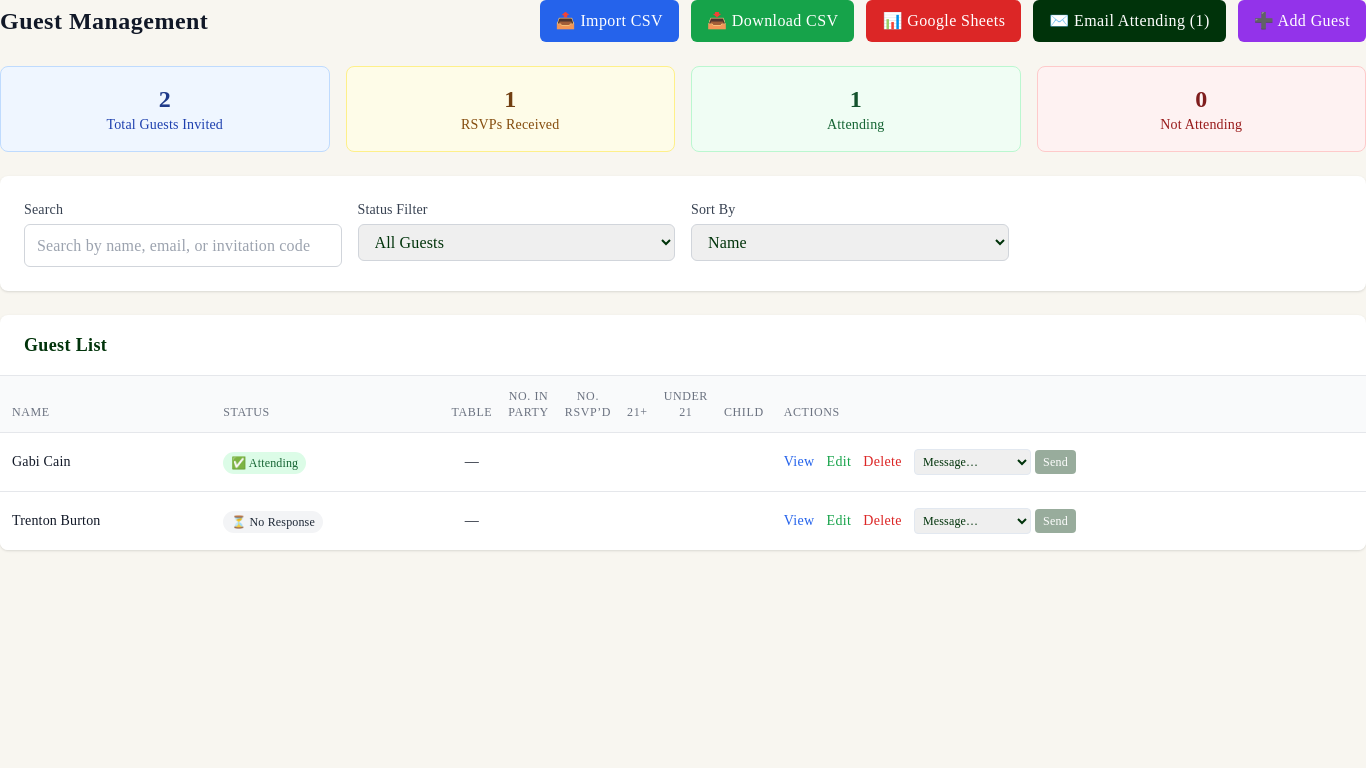
Test: the popup › opens on Download CSV without downloading anything yet
This screenshot has width=1366, height=768.
Expected: the text "Gabi Cain" is shown, x1=12 y1=454 x2=71 y2=469
Click the button "📥 Download CSV" at [773, 21], box x1=691 y1=0 x2=854 y2=42
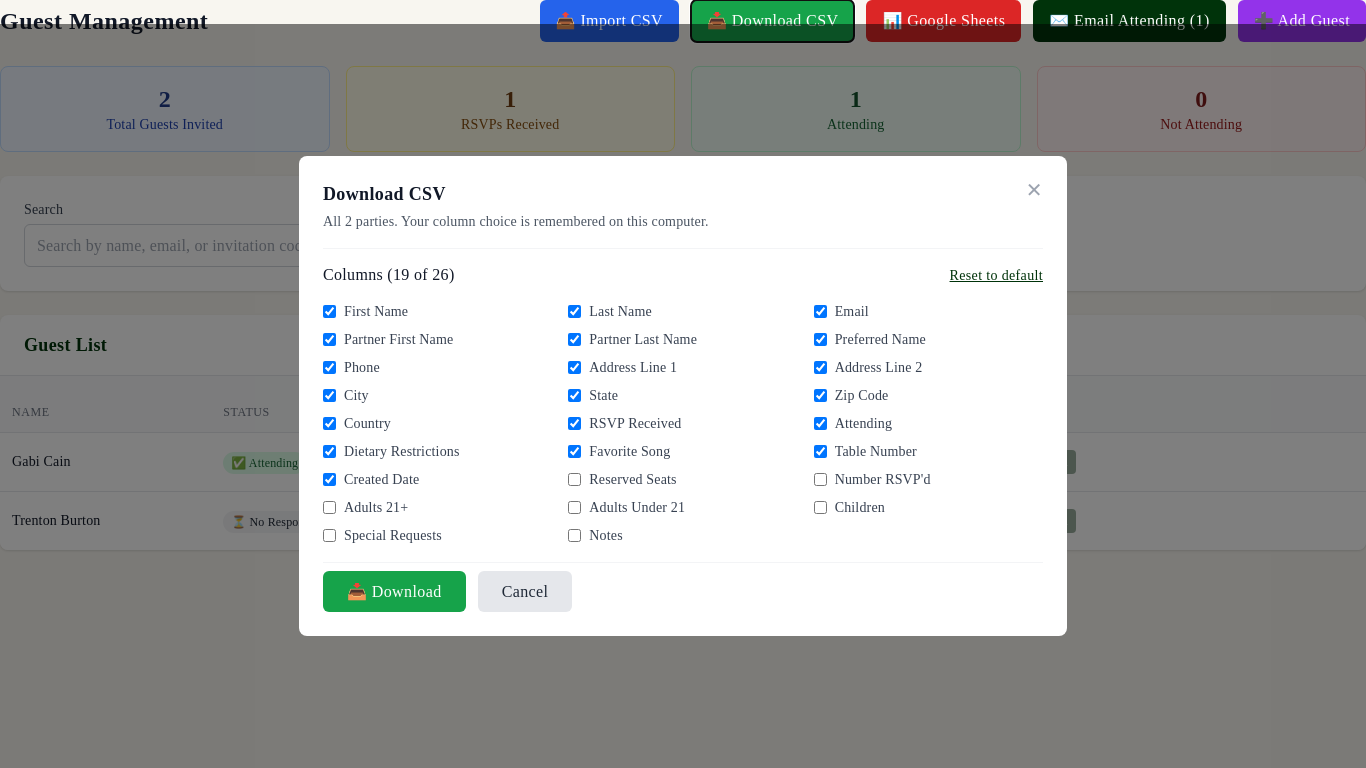
Expected: the dialog is shown
